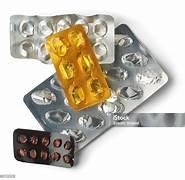pill_Strip: (24, 25, 167, 148), (24, 75, 184, 150), (24, 74, 130, 150), (24, 74, 112, 150), (102, 24, 167, 112), (46, 25, 109, 110), (10, 14, 113, 63), (13, 129, 75, 167), (127, 113, 184, 126)
